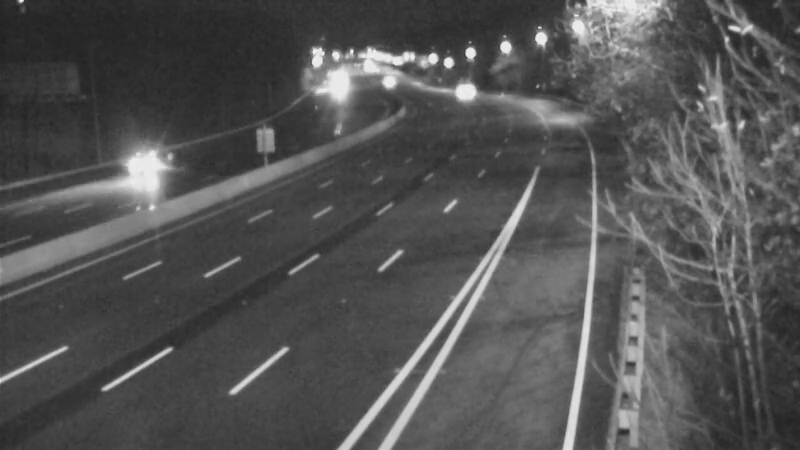vehicle: (101, 133, 181, 213), (361, 54, 411, 104), (437, 67, 487, 117)
